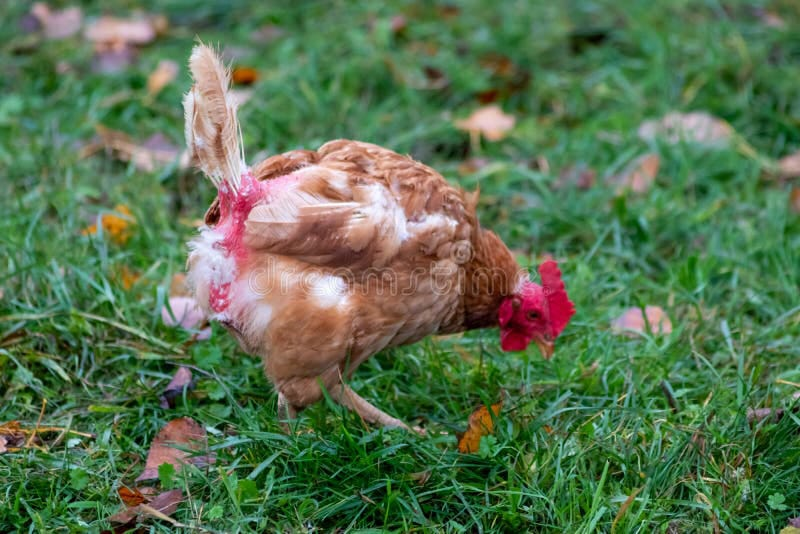Healthy: (159, 34, 585, 444)
